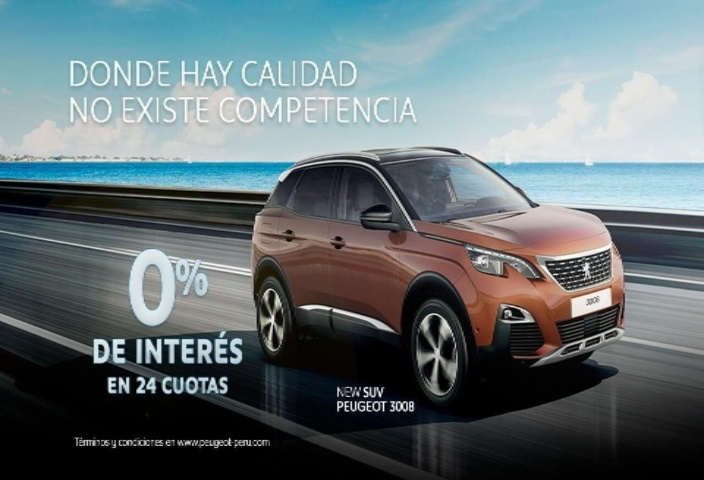camper: (239, 148, 643, 398)
